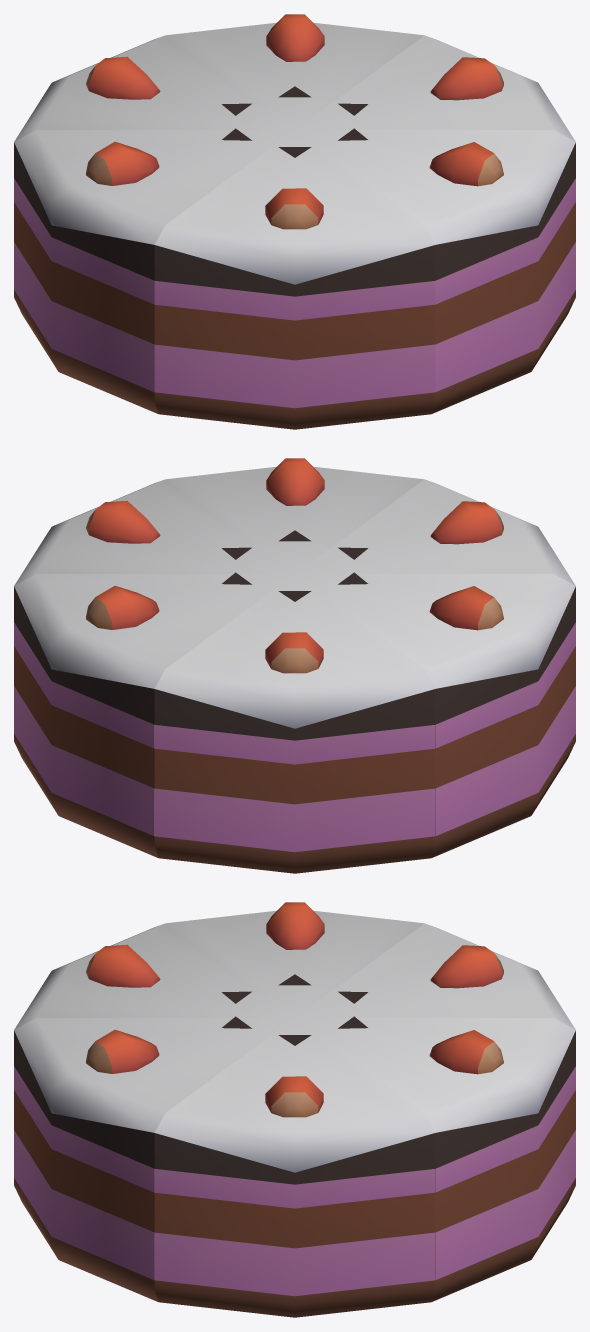
Rendered from cake.glb.
The picture shows the model from 3 angles, top to bottom: view 1: azimuth 30°, elevation 25°; view 2: azimuth 150°, elevation 25°; view 3: azimuth 270°, elevation 25°; orthographic projection.
Visible parts, largest first — view 1: slice (×6); view 2: slice (×6); view 3: slice (×6).
Part boxes in pixels (x1,y1,x2,y2): slice (×6): [14, 14, 575, 429]; slice (×6): [14, 458, 575, 873]; slice (×6): [14, 902, 575, 1317].
Bounding box in the file's own units: 0.6392 × 0.2731 × 0.6392.
